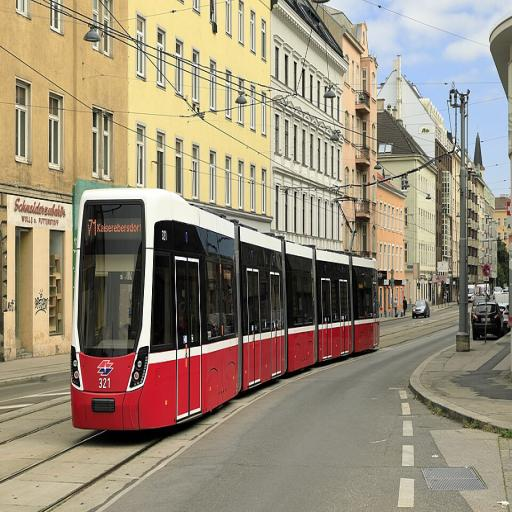Flexity: (70, 183, 382, 435)
